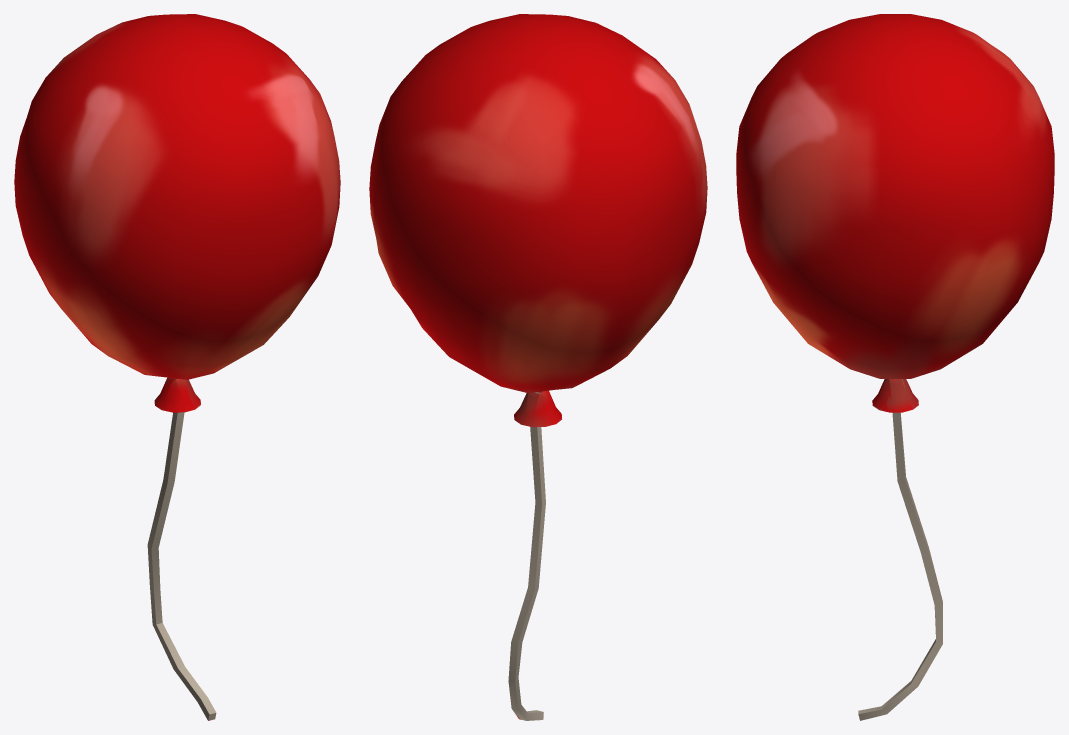
Rendered from balloonFINAL.fbx.
3 renders of one model, left to right at view 1: azimuth 30°, elevation 25°; view 2: azimuth 150°, elevation 25°; view 3: azimuth 270°, elevation 25°, orthographic. The views are drawn at different scales.
Visible parts, largest first — view 1: balloon; view 2: balloon; view 3: balloon.
Boxes of the visible parts, x1,y1,x2,y2 form: balloon: (14,14,340,720); balloon: (369,14,707,720); balloon: (736,14,1054,720).
Size of the model in its own units: 361 by 853 by 361.
1 material, 1 textured.
